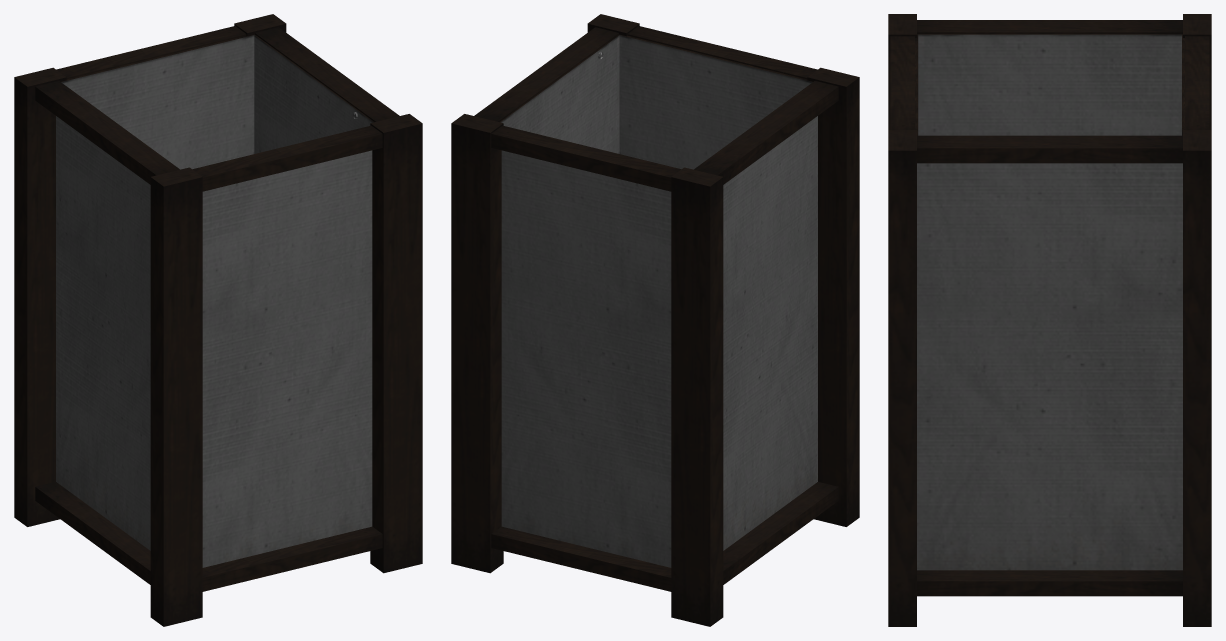
Rendered from p6_laundry_hamper_lod1.glb.
The picture shows the model from 3 angles, left to right: view 1: azimuth 30°, elevation 25°; view 2: azimuth 150°, elevation 25°; view 3: azimuth 270°, elevation 25°; orthographic projection. The views are drawn at different scales.
Parts seen in each view (by area): view 1: surf1, surf0; view 2: surf1, surf0; view 3: surf1, surf0.
Part boxes in pixels (left/top/right/bottom): surf1: left=56, top=34, right=374, bottom=567; surf0: left=14, top=14, right=422, bottom=626; surf1: left=499, top=34, right=817, bottom=567; surf0: left=451, top=14, right=859, bottom=626; surf1: left=915, top=34, right=1184, bottom=570; surf0: left=888, top=14, right=1211, bottom=626.
Size of the model in its own units: 24 by 39 by 24.
